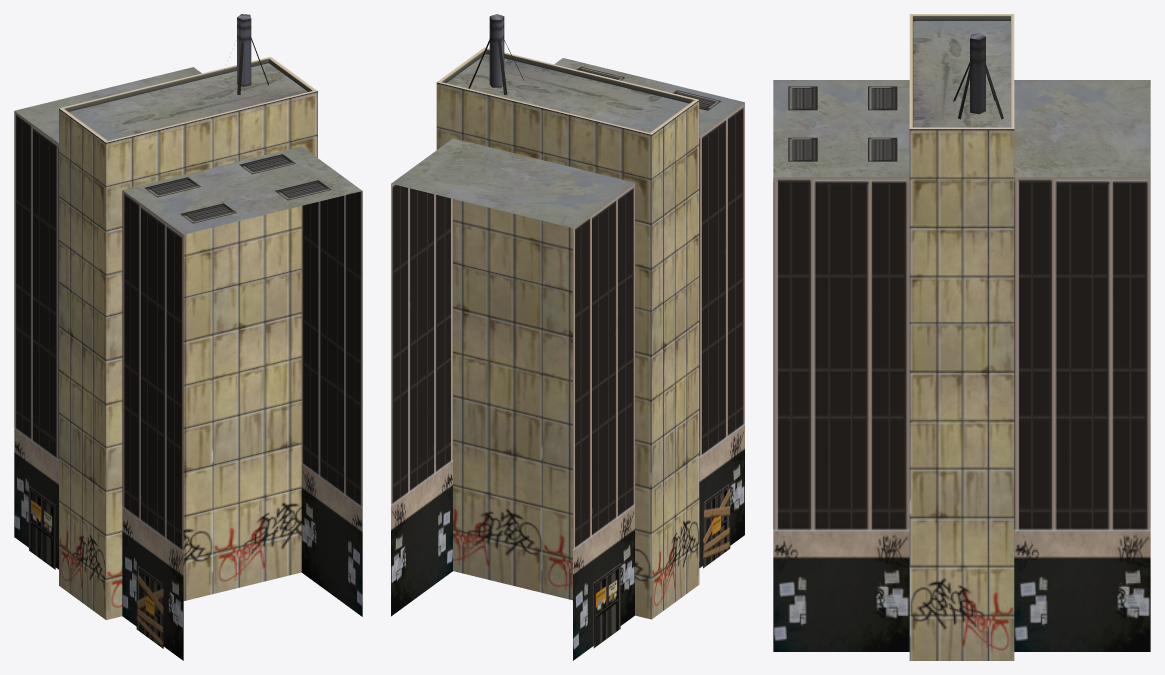
The model's file is building_1.fbx.
The picture shows the model from 3 angles, left to right: view 1: azimuth 30°, elevation 25°; view 2: azimuth 150°, elevation 25°; view 3: azimuth 270°, elevation 25°; orthographic projection. The views are drawn at different scales.
Visible parts, largest first — view 1: building_1; view 2: building_1; view 3: building_1.
Part boxes in pixels (<box>): building_1: <box>14,14,362,660</box>; building_1: <box>391,14,744,660</box>; building_1: <box>773,14,1150,660</box>.
Size of the model in its own units: 1300 by 3166 by 1800.
